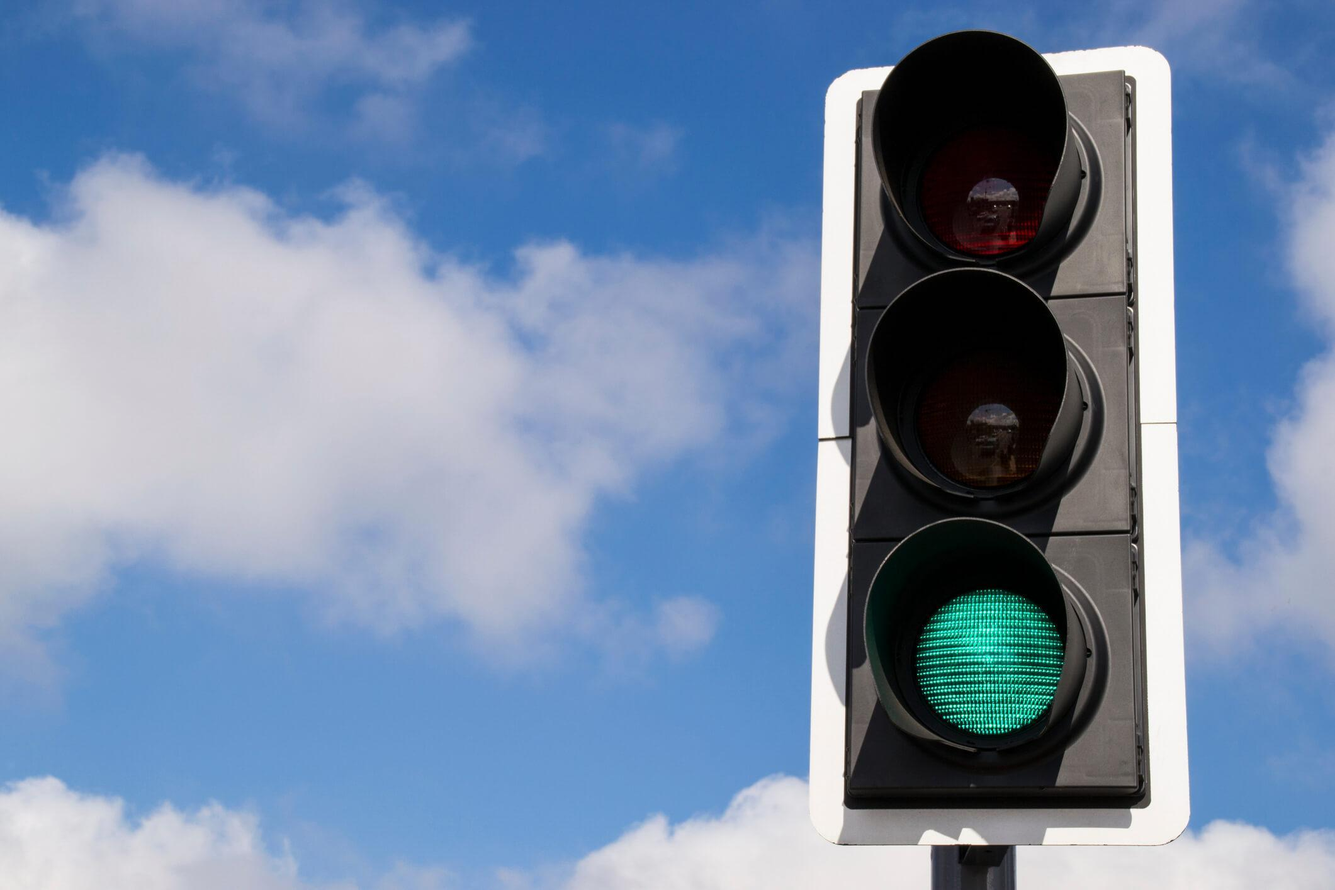green: (837, 50, 1156, 835)
